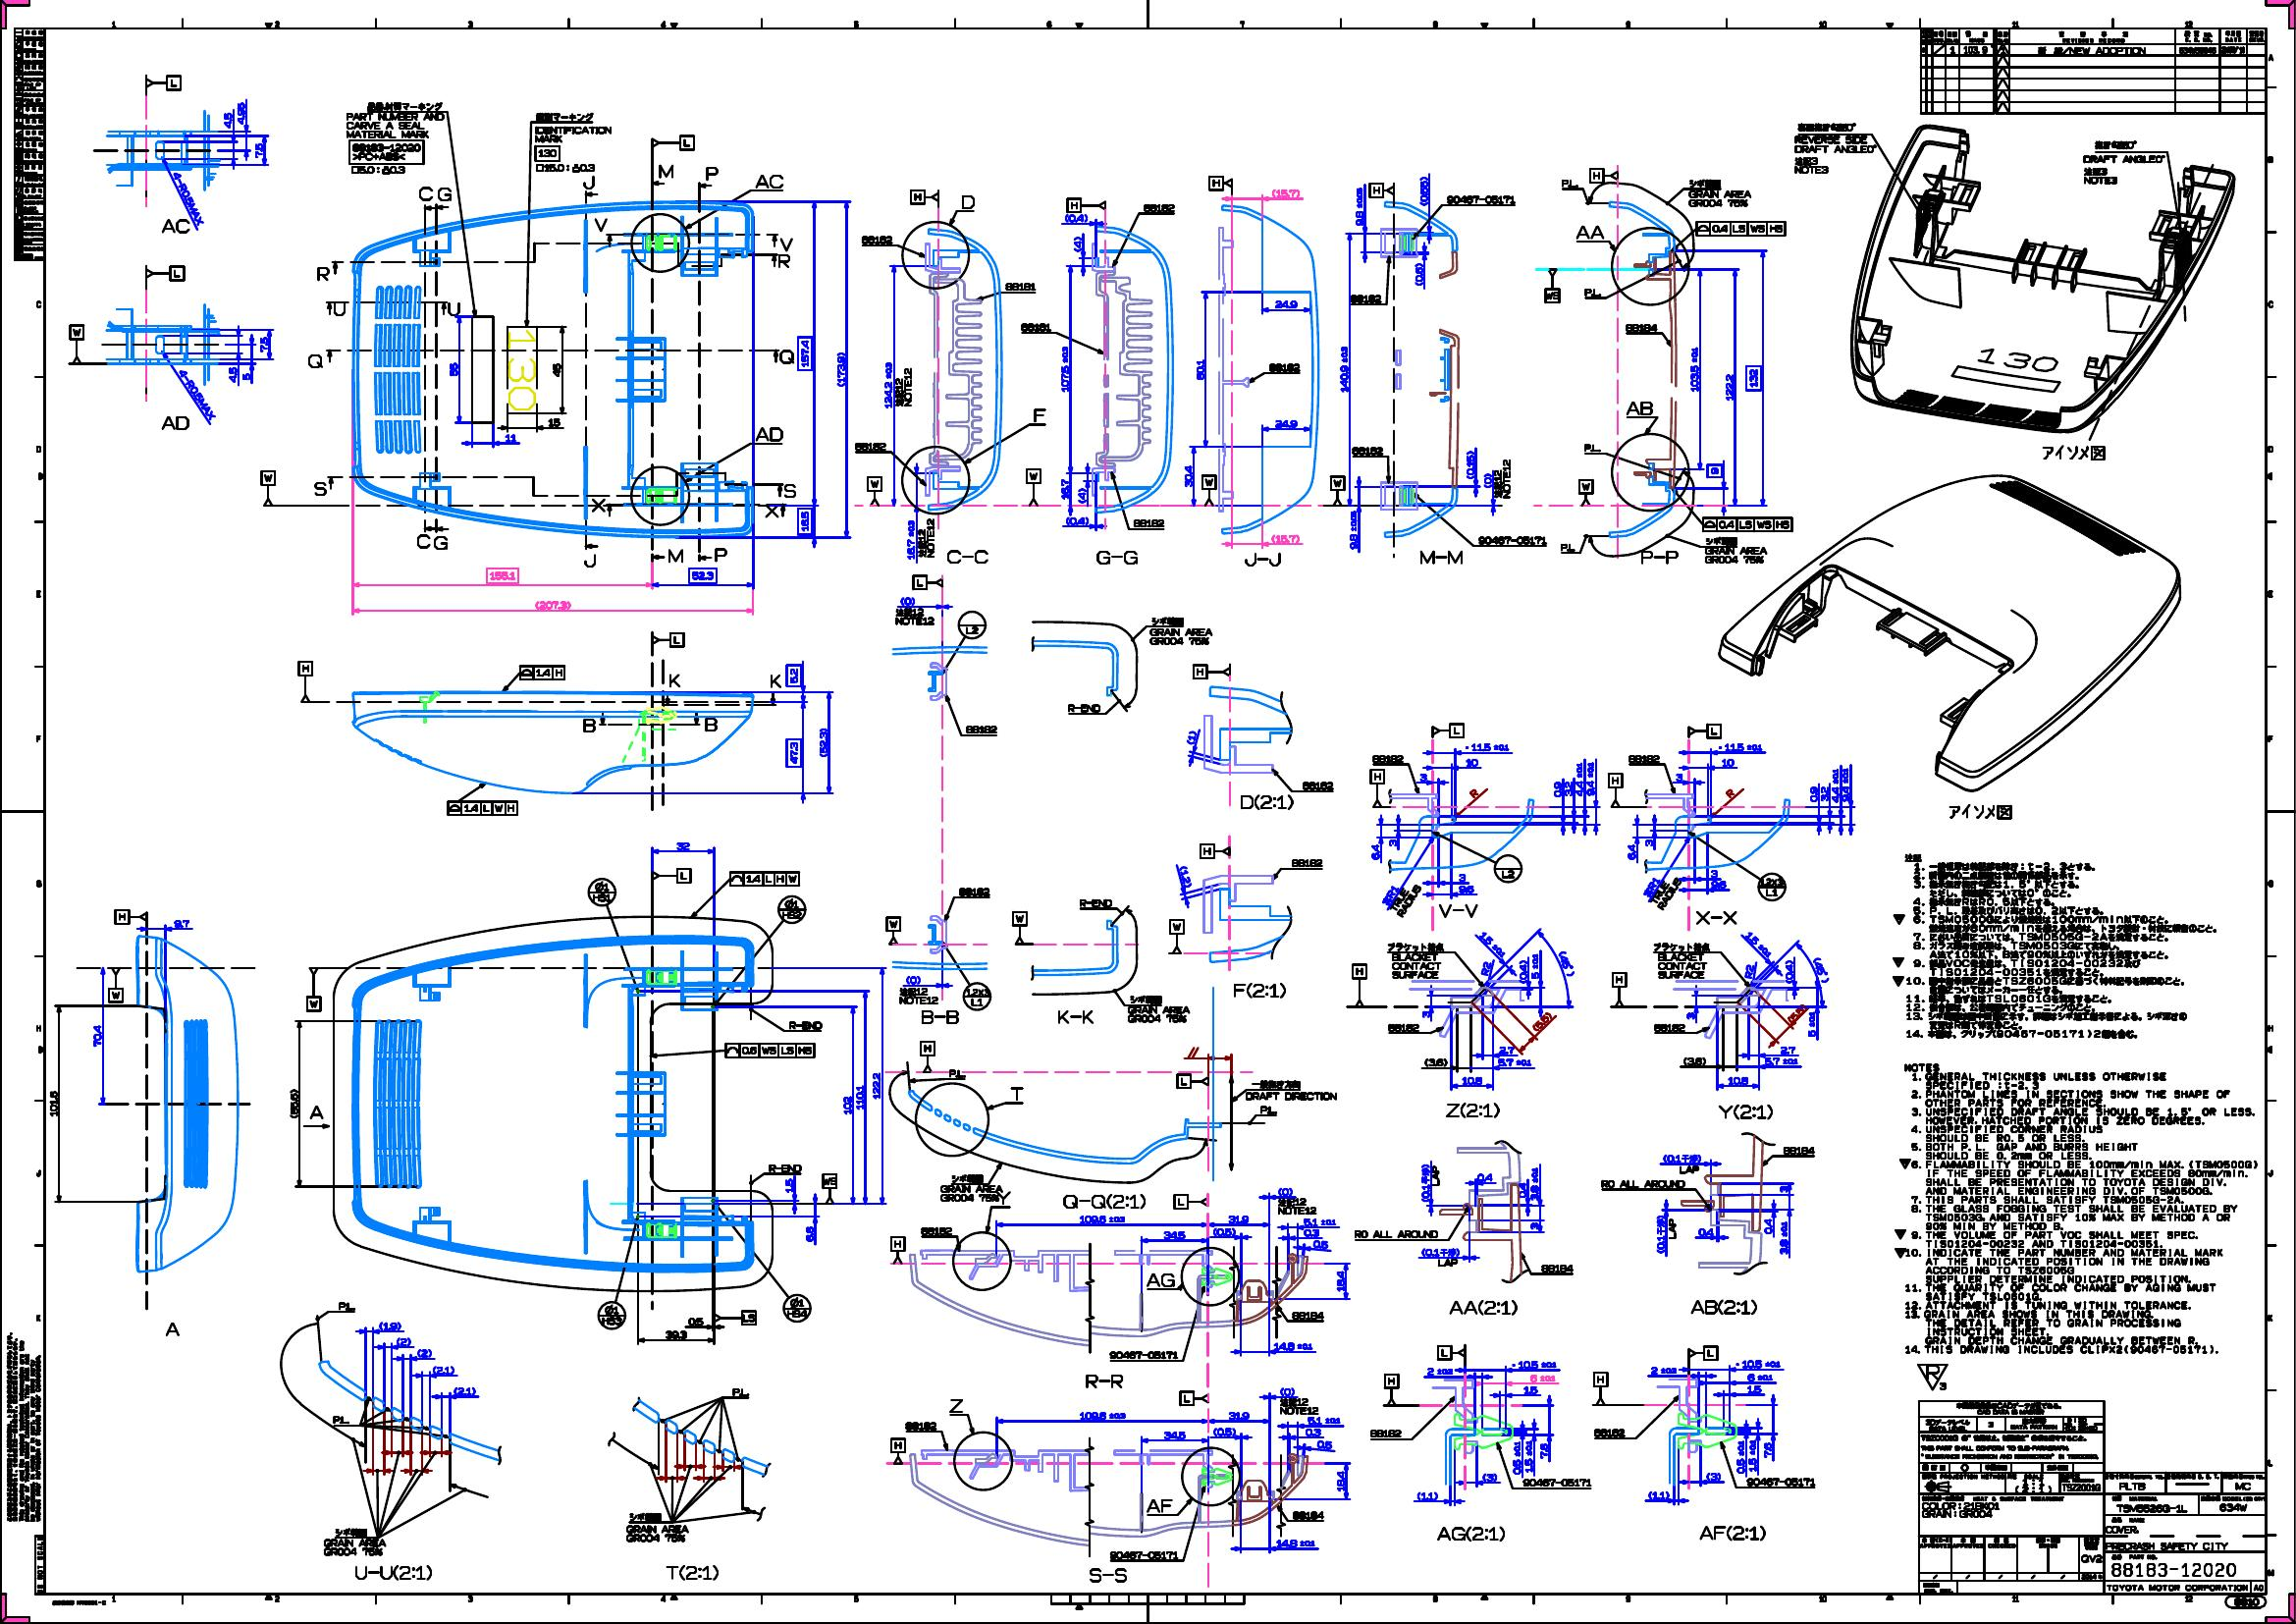anntotation_text: (1888, 1058, 2261, 1359), (1890, 849, 2219, 1044), (344, 102, 446, 179), (4, 1329, 44, 1522), (532, 111, 613, 174), (1792, 120, 1880, 174), (2076, 137, 2166, 186), (1648, 937, 1709, 979), (1386, 940, 1446, 982), (624, 1510, 690, 1545), (1244, 1079, 1340, 1102), (938, 1171, 1003, 1202), (1149, 615, 1217, 645), (1688, 178, 1751, 207), (1126, 995, 1189, 1025), (323, 1527, 388, 1555), (1702, 536, 1769, 562), (1702, 515, 1794, 533), (353, 1562, 436, 1582), (1716, 1102, 1780, 1125), (1946, 801, 2015, 823), (1433, 1526, 1507, 1545), (724, 1042, 813, 1058), (1695, 221, 1785, 237), (1059, 1193, 1147, 1209), (2040, 445, 2110, 464), (1690, 1297, 1758, 1316), (662, 1561, 722, 1582), (1448, 1299, 1518, 1316), (1699, 1526, 1767, 1543), (1230, 981, 1291, 1000), (1915, 1360, 1950, 1392), (446, 800, 516, 816), (1599, 1178, 1688, 1190), (1442, 1102, 1500, 1120), (956, 608, 987, 640), (729, 872, 799, 886), (1238, 793, 1295, 810), (775, 895, 806, 924), (585, 877, 617, 907), (961, 982, 993, 1012), (1491, 852, 1523, 882), (1491, 455, 1513, 499), (1418, 1162, 1440, 1202), (1353, 1229, 1439, 1239), (1757, 872, 1787, 902), (1657, 1213, 1678, 1255), (782, 1294, 813, 1322), (596, 1301, 627, 1329), (1664, 1151, 1702, 1174), (1419, 1246, 1460, 1267), (896, 984, 940, 1004), (915, 517, 935, 559), (1693, 909, 1739, 926), (1094, 548, 1140, 566), (892, 608, 938, 626), (1277, 1397, 1321, 1415), (1351, 963, 1368, 1007), (1444, 193, 1516, 204), (1108, 1550, 1180, 1561), (156, 192, 218, 204), (1054, 1007, 1093, 1026), (1521, 1476, 1592, 1487), (1746, 1476, 1816, 1487), (1108, 1348, 1179, 1359), (1087, 1564, 1130, 1582), (919, 1007, 961, 1025), (894, 366, 912, 408), (1418, 548, 1463, 564), (1242, 550, 1282, 568), (945, 548, 989, 564), (520, 664, 564, 680), (146, 264, 184, 281), (1275, 1199, 1318, 1214), (713, 1309, 755, 1325), (2224, 1594, 2266, 1610), (1082, 1373, 1124, 1388), (297, 659, 313, 701), (1648, 882, 1685, 900), (1542, 267, 1560, 304), (1388, 889, 1425, 907), (165, 388, 227, 399), (1065, 197, 1105, 213), (650, 868, 690, 884), (1439, 902, 1479, 917), (1476, 536, 1548, 545), (754, 425, 783, 446), (307, 967, 321, 1011), (650, 135, 694, 149), (49, 1598, 107, 1608), (1193, 663, 1230, 678), (754, 172, 783, 192), (1639, 550, 1679, 564), (1592, 1371, 1607, 1406), (652, 631, 683, 649), (1430, 722, 1465, 738), (146, 74, 181, 90), (1147, 1274, 1175, 1294), (1370, 768, 1384, 807), (1026, 468, 1040, 506), (1688, 724, 1722, 740), (1168, 919, 1184, 953), (1625, 399, 1655, 417), (1576, 223, 1606, 241), (1613, 972, 1627, 1009), (1607, 772, 1621, 808), (1147, 1494, 1173, 1513), (35, 1534, 44, 1592), (162, 216, 188, 236), (921, 1040, 936, 1072), (116, 909, 148, 924), (764, 1162, 805, 1174), (70, 323, 83, 364), (1172, 1193, 1207, 1207), (1267, 360, 1302, 374), (260, 471, 274, 506), (822, 1174, 838, 1204), (913, 575, 943, 591), (1200, 842, 1230, 858), (160, 415, 190, 431), (1175, 1074, 1209, 1088), (1384, 1373, 1398, 1406), (109, 968, 123, 1002), (1012, 910, 1026, 944), (1590, 167, 1618, 183), (1437, 1345, 1465, 1360), (889, 1438, 906, 1462), (903, 1420, 938, 1432), (1066, 701, 1101, 714), (1688, 1345, 1718, 1359), (1202, 475, 1216, 504), (1330, 476, 1344, 506), (1179, 1392, 1209, 1406), (866, 476, 880, 506), (885, 917, 901, 944), (1627, 752, 1660, 765), (859, 232, 892, 244), (947, 1396, 966, 1417), (1007, 1084, 1026, 1106), (306, 1102, 325, 1123), (666, 668, 685, 689), (1077, 898, 1116, 909), (430, 533, 450, 554), (306, 353, 325, 374), (891, 1236, 905, 1264), (1579, 478, 1593, 506), (910, 190, 938, 204), (1349, 292, 1381, 304), (1370, 752, 1407, 763), (994, 1190, 1014, 1209), (163, 1320, 183, 1339), (701, 715, 720, 735), (309, 480, 329, 499), (415, 531, 434, 550), (588, 496, 608, 515), (668, 547, 687, 566), (780, 482, 799, 501), (416, 185, 436, 204), (436, 186, 455, 206), (444, 302, 464, 322), (578, 174, 597, 193), (592, 213, 611, 232), (655, 162, 675, 181), (1781, 1144, 1816, 1155), (1289, 1309, 1325, 1320), (787, 1018, 822, 1028), (1651, 1021, 1686, 1032), (1368, 183, 1395, 197), (1140, 202, 1175, 213), (1300, 780, 1335, 791), (580, 550, 597, 571), (332, 299, 350, 320), (1370, 1427, 1404, 1438), (1592, 1427, 1625, 1438), (1541, 1262, 1574, 1272), (1351, 445, 1384, 455), (1291, 1510, 1325, 1520), (964, 724, 998, 735), (957, 884, 991, 895), (778, 234, 796, 253), (580, 717, 597, 736), (766, 671, 783, 691), (711, 547, 729, 566), (764, 501, 782, 520), (778, 346, 796, 366), (313, 264, 330, 283), (775, 251, 792, 271), (703, 163, 720, 183), (1625, 322, 1657, 332), (1005, 281, 1036, 292), (1209, 176, 1231, 190), (1021, 322, 1051, 332), (959, 192, 975, 211), (921, 1227, 954, 1236), (1131, 518, 1165, 527), (1289, 858, 1323, 866), (854, 441, 887, 450), (1031, 406, 1047, 424), (1258, 1102, 1279, 1114), (1583, 441, 1604, 453), (330, 1413, 350, 1425), (1558, 178, 1579, 188), (1583, 286, 1602, 297), (337, 1301, 357, 1311), (731, 1385, 750, 1396), (1558, 543, 1576, 554), (947, 1069, 966, 1077)
dimension_text: (796, 336, 813, 371), (1463, 740, 1511, 752), (485, 568, 520, 584), (833, 350, 847, 388), (882, 359, 892, 408), (1077, 1213, 1126, 1223), (1272, 1341, 1314, 1353), (1732, 1357, 1781, 1367), (1688, 344, 1699, 392), (1059, 344, 1070, 392), (1716, 742, 1764, 752), (1511, 1359, 1558, 1369), (532, 598, 573, 610), (689, 566, 717, 584), (1339, 346, 1349, 392), (1744, 366, 1762, 392), (785, 738, 801, 766), (817, 726, 831, 758), (1778, 1220, 1790, 1255), (798, 508, 813, 534), (1079, 1410, 1126, 1418), (1418, 174, 1430, 207), (1354, 186, 1365, 225), (1349, 510, 1360, 548), (1739, 939, 1776, 949), (1300, 1216, 1337, 1227), (1841, 766, 1852, 803), (1830, 766, 1841, 803), (1497, 1056, 1532, 1067), (1530, 1165, 1541, 1200), (288, 1086, 299, 1121), (1574, 761, 1585, 796), (1585, 761, 1595, 796), (1748, 1438, 1758, 1473), (1736, 1439, 1746, 1475), (1523, 1439, 1534, 1475), (1274, 1538, 1316, 1547), (1270, 186, 1300, 199), (47, 1088, 60, 1118), (906, 520, 915, 561), (1388, 1023, 1421, 1033), (1513, 1441, 1523, 1475), (1474, 940, 1513, 949), (787, 664, 803, 685), (1560, 951, 1572, 977), (1423, 1056, 1449, 1069), (234, 98, 246, 125), (664, 1327, 687, 1341), (1723, 371, 1734, 401), (1465, 450, 1476, 480), (1650, 1366, 1679, 1376), (871, 1070, 882, 1100), (1425, 1366, 1455, 1376), (1764, 1056, 1799, 1065), (1307, 1417, 1342, 1425), (1518, 960, 1530, 984), (1163, 1429, 1188, 1441), (430, 1364, 455, 1376), (1270, 533, 1298, 543), (1815, 956, 1825, 984), (1746, 1373, 1774, 1383), (1063, 213, 1089, 223), (1681, 1056, 1708, 1067), (1414, 262, 1425, 286), (1195, 357, 1205, 381), (1059, 478, 1072, 499), (1224, 1213, 1249, 1223), (854, 1084, 864, 1109), (1414, 1490, 1439, 1501), (1226, 1411, 1251, 1422), (378, 1320, 402, 1330), (1272, 420, 1300, 429), (1528, 1374, 1556, 1383), (1182, 464, 1193, 487), (1460, 1076, 1483, 1086), (1163, 1229, 1186, 1239), (1335, 1269, 1346, 1292), (1641, 881, 1664, 891), (1179, 866, 1189, 889), (1335, 1469, 1346, 1492), (453, 1385, 476, 1396), (1368, 842, 1381, 861), (1272, 299, 1298, 308), (1785, 958, 1794, 984), (1808, 1011, 1816, 1037), (1530, 953, 1539, 979), (1528, 1018, 1555, 1026), (841, 1095, 852, 1116), (1379, 889, 1400, 900), (1648, 1489, 1669, 1499), (1065, 517, 1089, 526), (1783, 1011, 1808, 1019), (1212, 1227, 1237, 1236), (1212, 1427, 1237, 1436), (1072, 236, 1082, 255), (1476, 1171, 1495, 1181), (253, 141, 264, 160), (898, 596, 917, 606), (1704, 1471, 1723, 1482), (1727, 1076, 1750, 1084), (93, 1025, 102, 1048), (1708, 464, 1723, 476), (545, 417, 560, 429), (448, 362, 460, 378), (1720, 756, 1736, 768), (1075, 487, 1086, 504), (1498, 1046, 1516, 1056), (1697, 1227, 1715, 1237), (805, 1225, 815, 1243), (675, 840, 692, 851), (223, 111, 234, 128), (1553, 780, 1563, 798), (1808, 784, 1818, 801), (1625, 842, 1635, 859), (1316, 1439, 1333, 1450), (1456, 884, 1476, 893), (1303, 1427, 1323, 1436), (1764, 1218, 1774, 1234), (1746, 1383, 1762, 1394), (227, 366, 237, 381), (552, 362, 562, 378), (905, 974, 921, 984), (1463, 758, 1479, 768), (1481, 1471, 1497, 1482), (1279, 1385, 1295, 1396), (416, 1346, 432, 1357), (395, 1336, 411, 1346), (1483, 471, 1491, 489), (1741, 965, 1758, 974), (1312, 1241, 1330, 1250), (1275, 1186, 1293, 1195), (1303, 1229, 1321, 1237), (1518, 1181, 1527, 1199), (687, 1316, 704, 1325), (172, 917, 190, 926), (260, 334, 269, 352), (1820, 784, 1829, 801), (1539, 1441, 1548, 1459), (1764, 1441, 1773, 1457), (783, 1178, 792, 1193), (1563, 780, 1572, 796), (1711, 881, 1727, 889), (1523, 1385, 1539, 1394), (1528, 1220, 1539, 1232), (1186, 731, 1196, 743), (1479, 963, 1493, 972), (1780, 1046, 1795, 1053), (1685, 1011, 1695, 1021), (1388, 838, 1398, 849), (1418, 772, 1428, 782), (504, 432, 516, 441), (241, 371, 249, 381), (1469, 789, 1479, 798), (1456, 872, 1467, 881), (1674, 772, 1683, 782), (1723, 789, 1734, 798), (1780, 1185, 1788, 1193), (1709, 868, 1718, 877), (1644, 838, 1653, 847), (1421, 1011, 1430, 1018)
object: (327, 910, 776, 1292), (1716, 473, 2182, 794), (348, 197, 761, 540), (1845, 120, 2236, 438), (344, 689, 757, 796), (905, 1248, 1314, 1352), (1031, 615, 1138, 998), (905, 1445, 1314, 1545), (887, 1069, 1224, 1185), (132, 932, 241, 1274), (1216, 202, 1321, 538), (889, 642, 993, 974), (1375, 200, 1463, 540), (1200, 682, 1295, 965), (1089, 223, 1177, 515), (1609, 197, 1679, 540), (922, 227, 1005, 515), (316, 1359, 502, 1464), (1641, 789, 1790, 875), (1384, 787, 1535, 872), (1439, 1139, 1527, 1280), (1679, 1135, 1764, 1271), (632, 1396, 768, 1478), (1432, 1378, 1514, 1487), (1655, 1376, 1739, 1480), (1674, 977, 1799, 1035), (1409, 977, 1527, 1037), (105, 128, 220, 172), (104, 322, 218, 364)
title_block: (1917, 1401, 2266, 1594), (1918, 28, 2266, 114), (12, 28, 46, 262)
